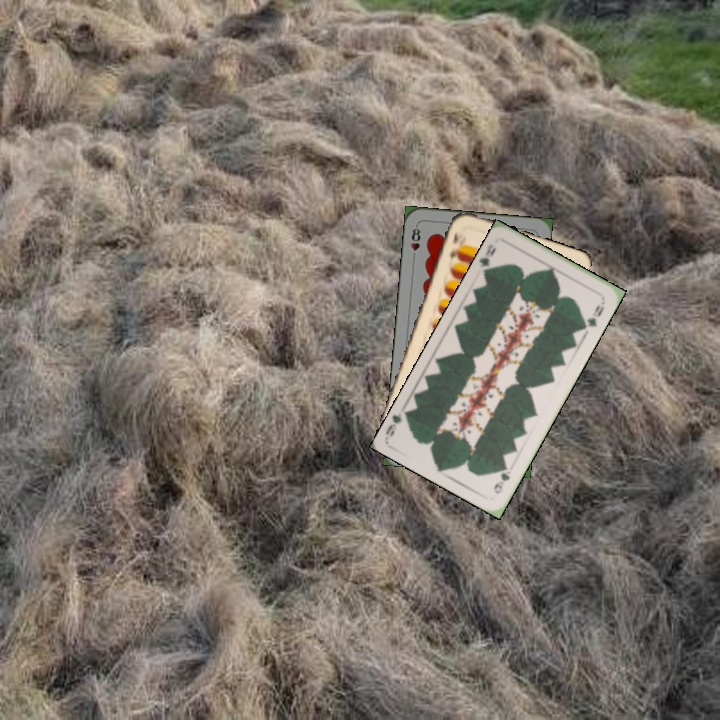E10: (446, 227, 461, 262)
G9: (489, 461, 513, 496), (476, 240, 499, 276)
H8: (407, 222, 423, 262)
